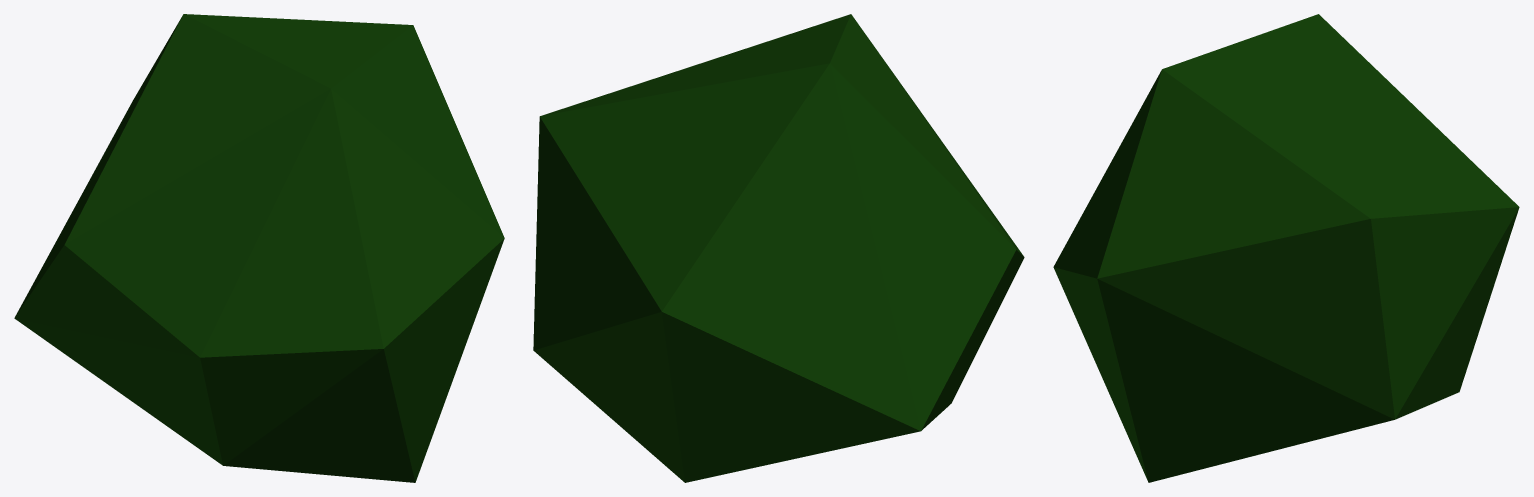
Rendered from Bush_3_Snow.glb.
3 renders of one model, left to right at view 1: azimuth 30°, elevation 25°; view 2: azimuth 150°, elevation 25°; view 3: azimuth 270°, elevation 25°, orthographic. The views are drawn at different scales.
Visible parts, largest first — view 1: Bush_3_Snow.001; view 2: Bush_3_Snow.001; view 3: Bush_3_Snow.001.
Boxes of the visible parts, x1=… form: Bush_3_Snow.001: x1=14, y1=14, x2=504, y2=482; Bush_3_Snow.001: x1=533, y1=14, x2=1024, y2=482; Bush_3_Snow.001: x1=1053, y1=14, x2=1519, y2=482.
Size of the model in its own units: 0.9527 by 0.97 by 1.01.
